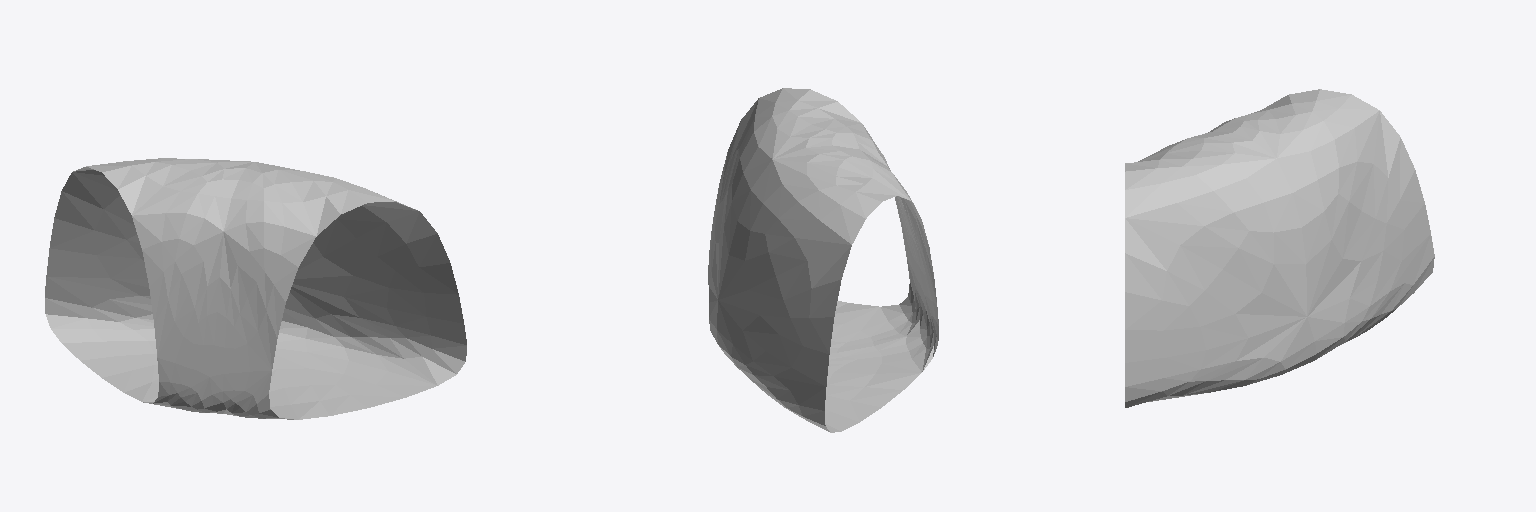
The model's file is cave_901_0.obj.
3 views of the same model, side by side, from view 1: azimuth 30°, elevation 25°; view 2: azimuth 150°, elevation 25°; view 3: azimuth 270°, elevation 25° (orthographic).
Visible parts, largest first — view 1: cave_901_0_Cube.005; view 2: cave_901_0_Cube.005; view 3: cave_901_0_Cube.005.
Boxes of the visible parts, box(x1,y1,x2,y2) form: cave_901_0_Cube.005: box(45, 158, 466, 419); cave_901_0_Cube.005: box(708, 88, 938, 432); cave_901_0_Cube.005: box(1125, 89, 1434, 407).
Bounding box in the file's own units: 7.94 × 5.92 × 7.94.